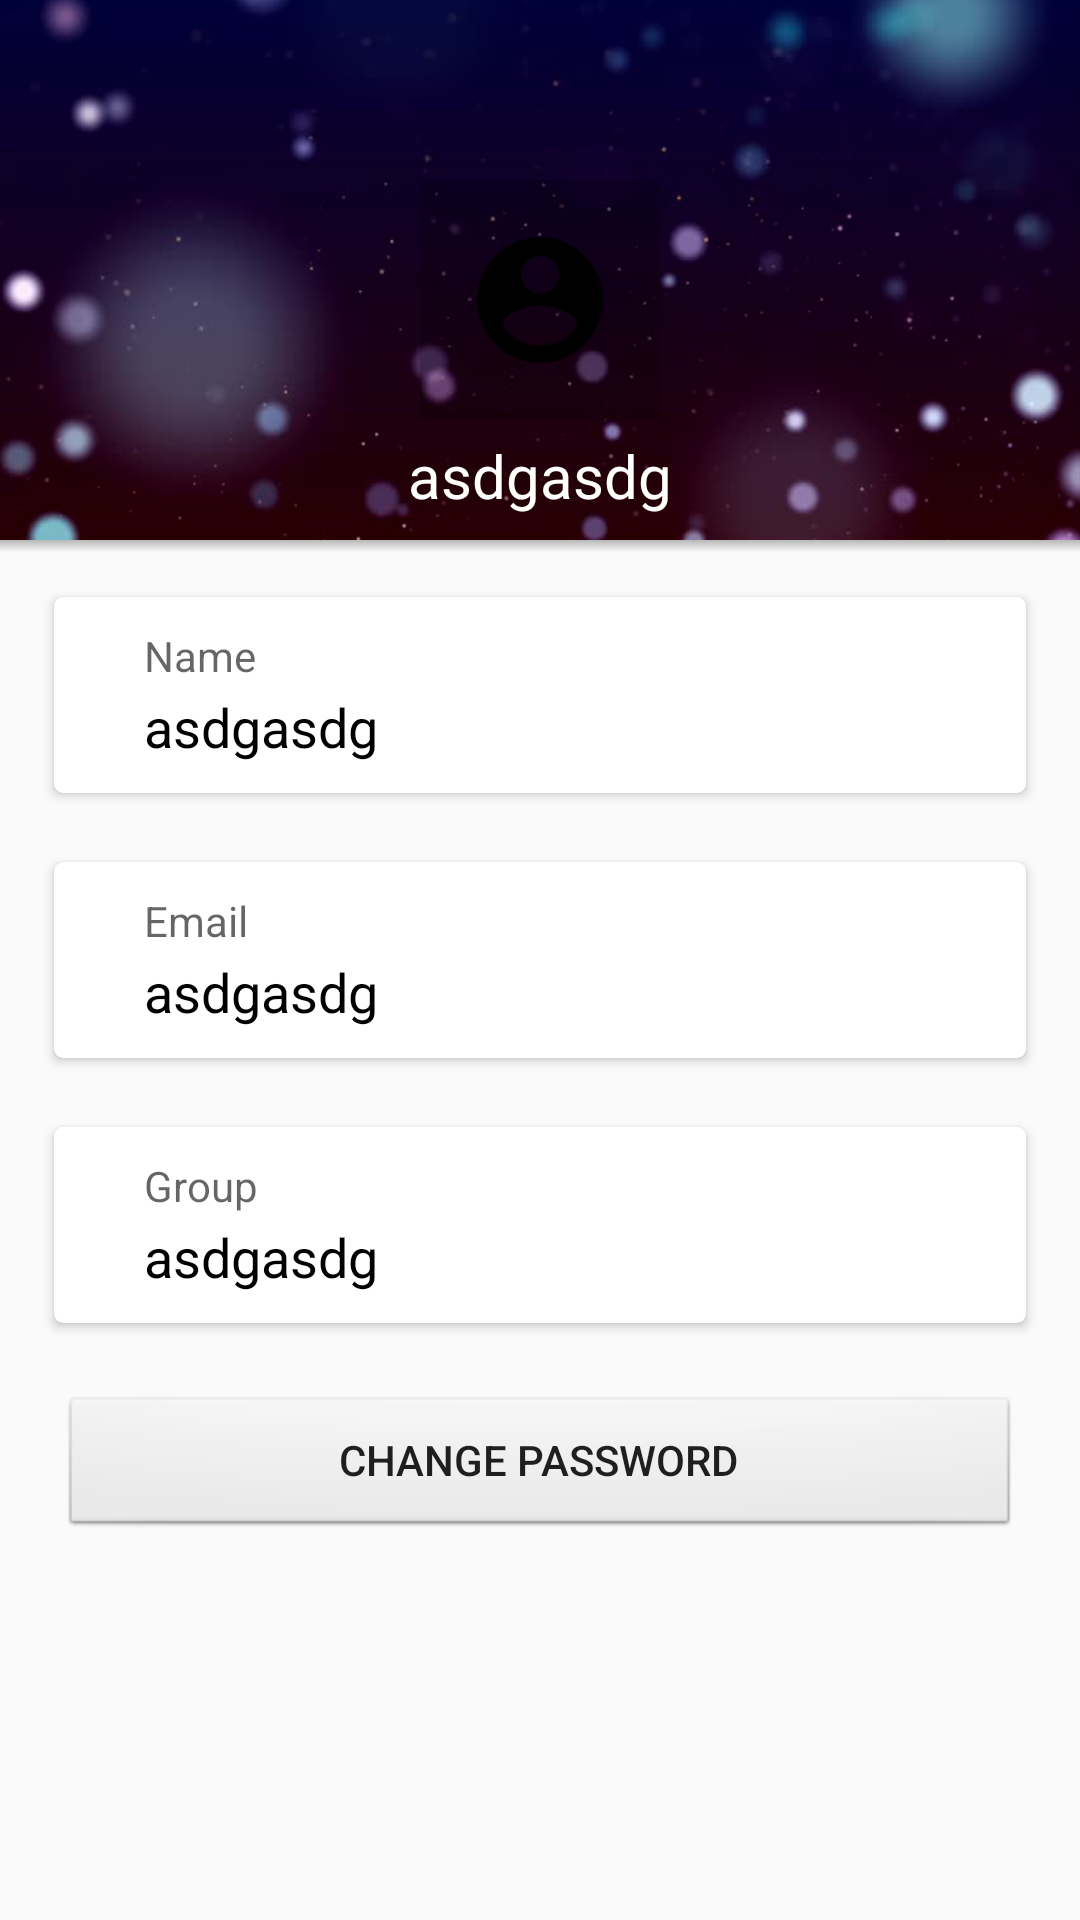

Named icons in this screenshot (1080x1920) and their bounding boxes, [x1, y1, x2, y2]:
account: [431, 182, 652, 396]
